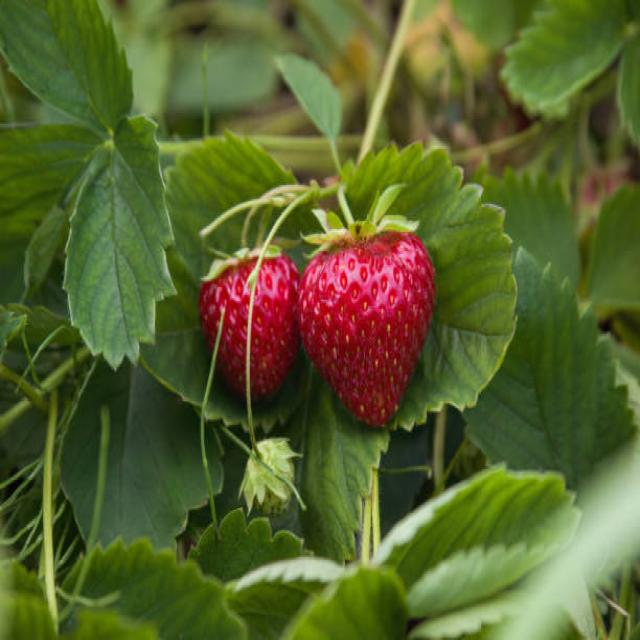Healthy Fruit: (297, 232, 434, 429), (197, 251, 305, 394)
